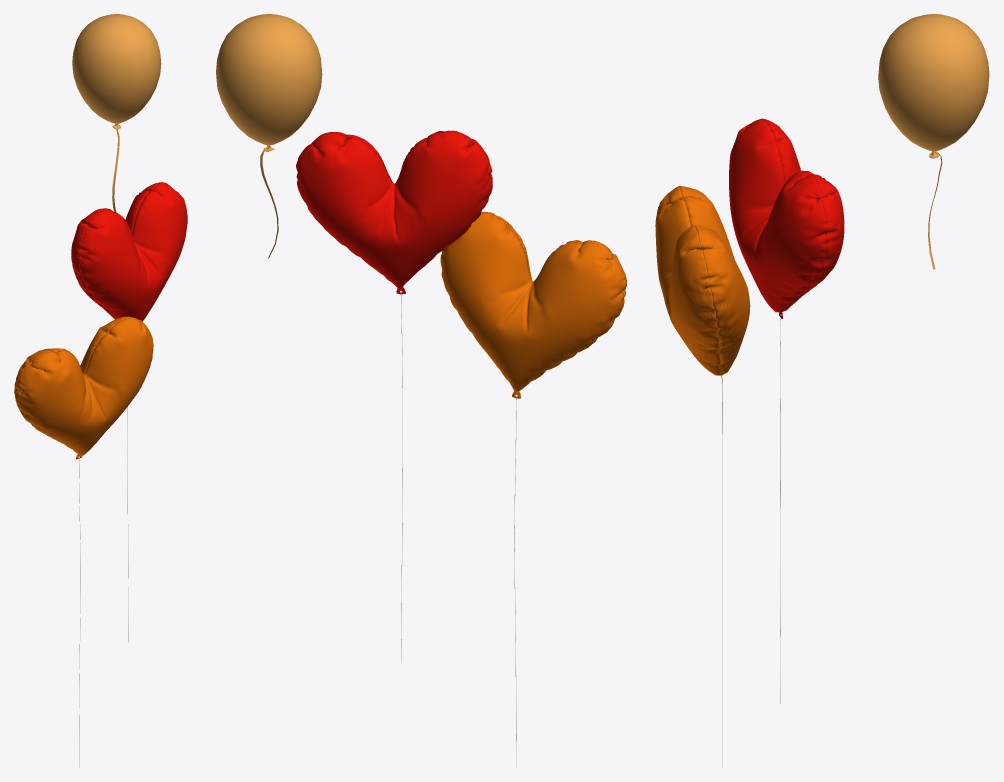
The model's file is heartbaloons.glb.
The picture shows the model from 3 angles, left to right: view 1: azimuth 30°, elevation 25°; view 2: azimuth 150°, elevation 25°; view 3: azimuth 270°, elevation 25°; orthographic projection. The views are drawn at different scales.
Visible parts, largest first — view 1: 圓柱體.002, 圓柱體.001, BALLOON.001; view 2: 圓柱體.001, 圓柱體.002, BALLOON.001; view 3: 圓柱體.001, 圓柱體.002, BALLOON.001.
Part boxes in pixels (<box>): 圓柱體.002: <box>14,316,153,459</box>; 圓柱體.001: <box>71,182,187,321</box>; BALLOON.001: <box>72,14,161,212</box>; 圓柱體.001: <box>296,130,492,294</box>; 圓柱體.002: <box>440,212,626,398</box>; BALLOON.001: <box>216,14,322,258</box>; 圓柱體.001: <box>729,118,844,318</box>; 圓柱體.002: <box>655,186,750,381</box>; BALLOON.001: <box>878,14,989,269</box>.
Size of the model in its own units: 0.6331 by 1.68 by 0.619.
